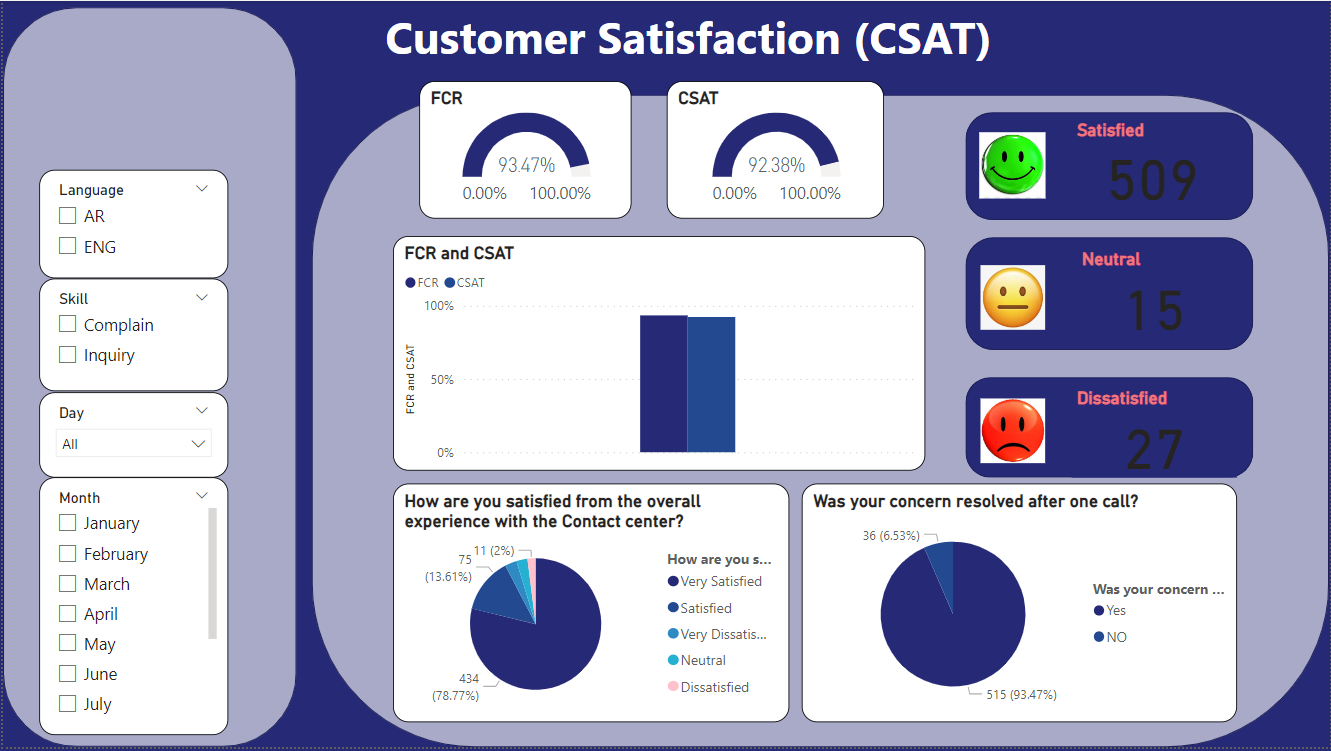

The dashboard page shown, as its layout file describes it:
{"tool":"powerbi","page":{"name":"CSAT","canvas":[1280,720],"ordinal":1},"visuals":[{"type":"shape","box":[297.9,90.5,981.7,629.5],"z":0},{"type":"shape","box":[928.6,363,277.4,96.5],"z":1000},{"type":"pieChart","title":"How are you satisfied from the overall experience with the Contact center? ","fields":{"Category":["CSAT Data.How are you satisfied from the overall experience with the Contact center?"],"Y":["CountNonNull(CSAT Data.How are you satisfied from the overall experience with the Contact center?)"]},"box":[376.3,465.5,382.3,230.4],"z":2000},{"type":"shape","box":[928.6,227.9,277.4,108.5],"z":3000},{"type":"pieChart","title":"Was your concern resolved after one call?","fields":{"Category":["CSAT Data.Was your concern resolved after one call?"],"Y":["CountNonNull(CSAT Data.Was your concern resolved after one call?)"]},"box":[770.7,465.5,419.7,230.4],"z":4000},{"type":"shape","box":[928.6,107.3,277.4,103.7],"z":5000},{"type":"clusteredColumnChart","fields":{"Y":["CSAT Data.FCR","CSAT Data.CSAT"]},"box":[376.3,226.7,513.8,226.7],"z":6000},{"type":"card","title":"Satisfied","fields":{"Values":["CSAT Data.CSAT"]},"box":[1031.2,114.6,154.4,83.2],"z":7000},{"type":"card","title":"Dissatisfied","fields":{"Values":["CSAT Data.Dissatisfied"]},"box":[1031.2,372.7,159.2,86.8],"z":8000},{"type":"gauge","fields":{"Y":["CSAT Data.CSAT"]},"box":[640.4,77.2,209.8,132.7],"z":9000},{"type":"gauge","fields":{"Y":["CSAT Data.FCR"]},"box":[401.6,77.2,205,132.7],"z":10000},{"type":"textbox","box":[348.5,0,625.9,77.2],"z":11000},{"type":"image","box":[937.1,119.4,73.6,78.4],"z":12000},{"type":"image","box":[938.3,248.4,72.4,74.8],"z":13000},{"type":"image","box":[938.3,376.3,72.4,77.2],"z":14000},{"type":"card","title":"Neutral","fields":{"Values":["CSAT Data.Neutral"]},"box":[1036,238.8,149.5,86.8],"z":15000},{"type":"shape","box":[0,6,283.4,714],"z":15500},{"type":"shape","box":[35,25.3,188.1,118.2],"z":16000},{"type":"image","box":[41,38.6,176.1,90.5],"z":17000},{"type":"slicer","fields":{"Values":["Calls Data.Language"]},"box":[35,162.8,182.1,104.9],"z":18000},{"type":"slicer","fields":{"Values":["Calls Data.Skill"]},"box":[35,267.7,182.1,108.5],"z":19000},{"type":"slicer","fields":{"Values":["Calender.Date.Variation.Date Hierarchy.Day"]},"box":[35,377.5,182.1,82],"z":20000},{"type":"slicer","fields":{"Values":["Calender.Date.Variation.Date Hierarchy.Month"]},"box":[35,459.5,182.1,248.4],"z":22000}]}

Visuals, with their boxes in screenshot pixels (x1, y1, x2, y2), scaled from the page's 1280x720 canvas onto the 1331x751 screenshot:
shape: 310 94 1330 750
shape: 966 379 1254 479
"How are you satisfied from the overall experience with the Contact center? " pieChart: 391 486 789 726
shape: 966 238 1254 351
"Was your concern resolved after one call?" pieChart: 801 486 1238 726
shape: 966 112 1254 220
clusteredColumnChart - CSAT Data.FCR x CSAT Data.CSAT: 391 236 926 473
"Satisfied" card: 1072 120 1233 206
"Dissatisfied" card: 1072 389 1238 479
gauge - CSAT Data.CSAT: 666 81 884 219
gauge - CSAT Data.FCR: 418 81 631 219
textbox: 362 0 1013 81
image: 974 125 1051 206
image: 976 259 1051 337
image: 976 393 1051 473
"Neutral" card: 1077 249 1233 340
shape: 0 6 295 750
shape: 36 26 232 150
image: 43 40 226 135
slicer - Calls Data.Language: 36 170 226 279
slicer - Calls Data.Skill: 36 279 226 392
slicer - Calender.Date.Variation.Date Hierarchy.Day: 36 394 226 479
slicer - Calender.Date.Variation.Date Hierarchy.Month: 36 479 226 738
